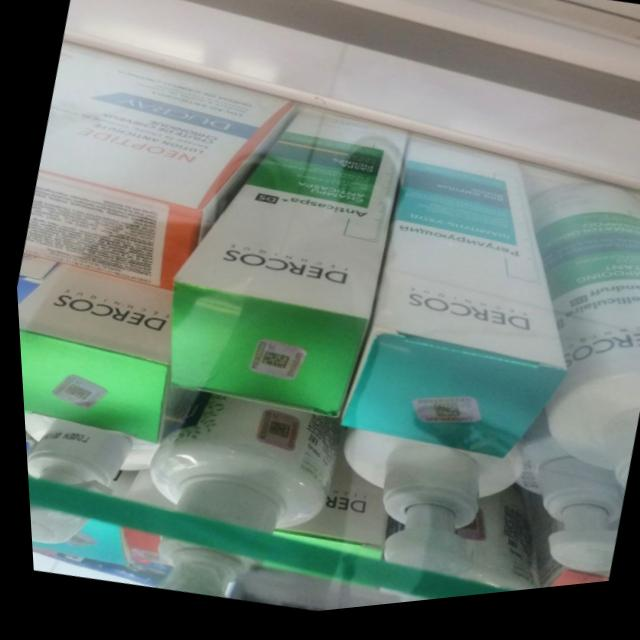datamatrix: (423, 405, 458, 433), (252, 353, 286, 378), (259, 420, 288, 448)
